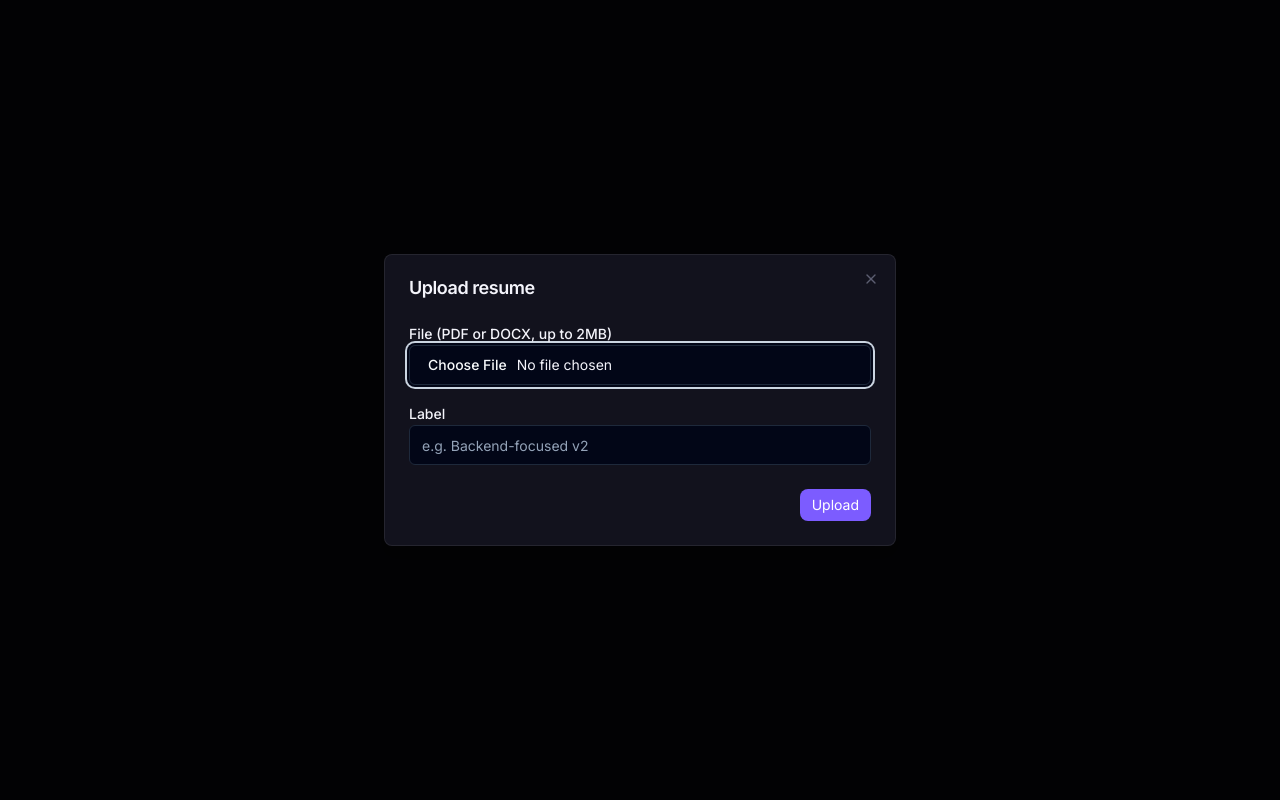
Test: UploadResumeDialog › requires a file before submitting
The width and height of the screenshot is (1280, 800).
Click the button "Upload" at (835, 505), box x1=800 y1=489 x2=871 y2=521
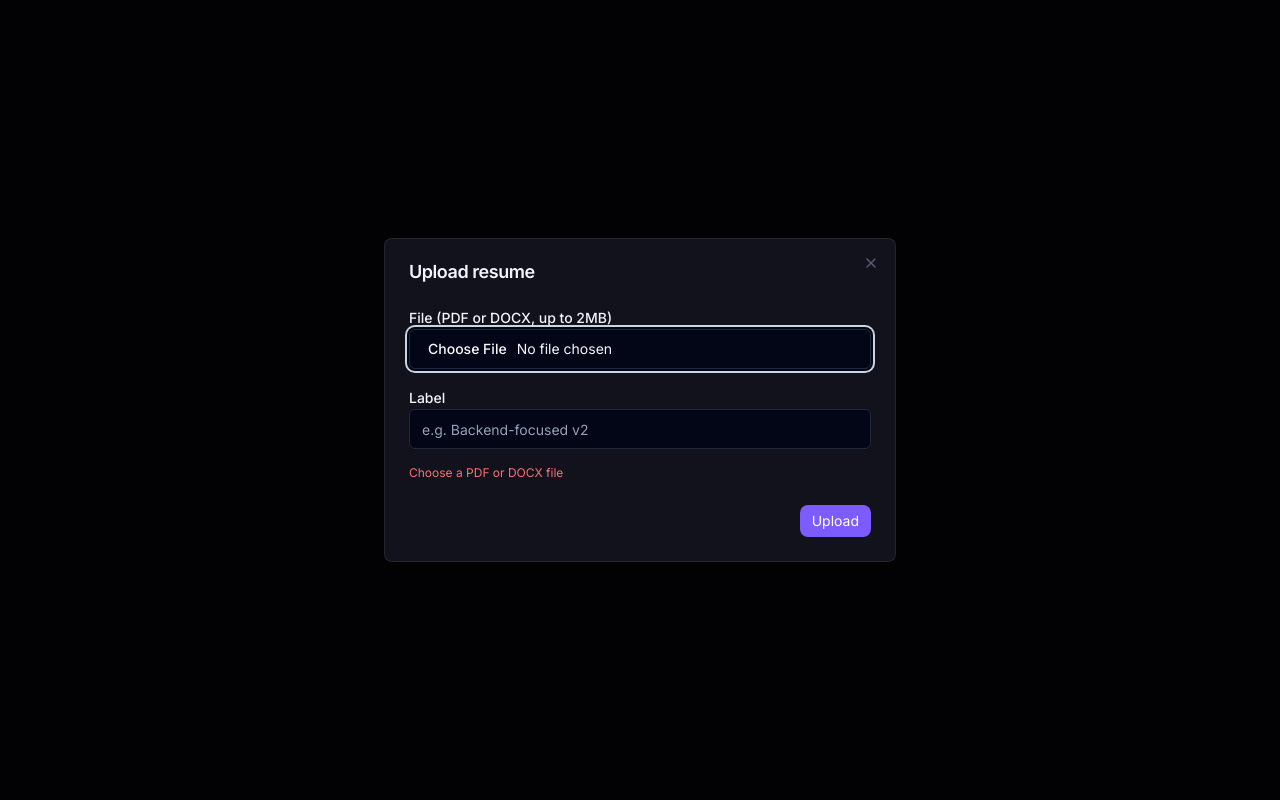
Expected: the text "Choose a PDF or DOCX file" is shown, x1=409 y1=465 x2=563 y2=480
